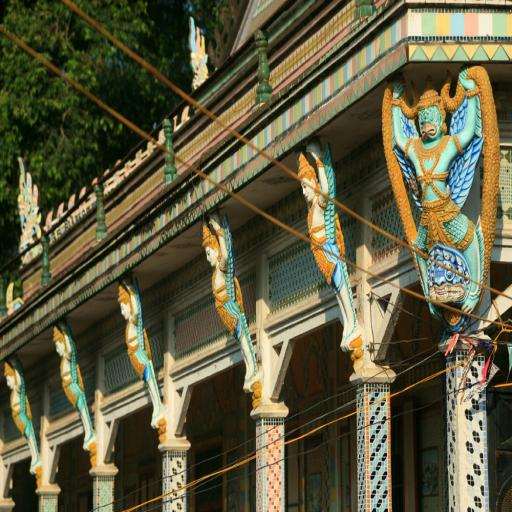ran: (8, 144, 54, 270), (180, 12, 218, 96)
than: (366, 65, 512, 340), (290, 149, 375, 363), (103, 275, 180, 448), (196, 220, 271, 389), (44, 323, 113, 462), (0, 355, 56, 482)
